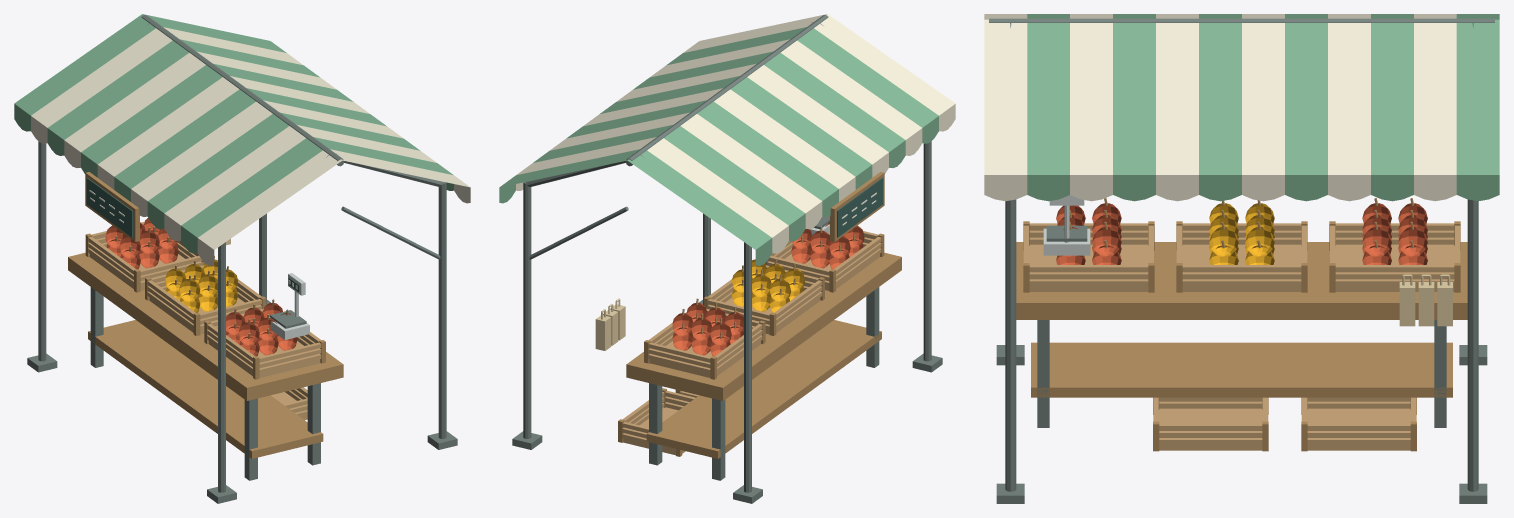
File: market-fruit.glb
The picture shows the model from 3 angles, left to right: view 1: azimuth 30°, elevation 25°; view 2: azimuth 150°, elevation 25°; view 3: azimuth 270°, elevation 25°; orthographic projection. The views are drawn at different scales.
Parts seen in each view (by area): view 1: fruit market stall; view 2: fruit market stall; view 3: fruit market stall.
Boxes of the visible parts, bbox=[...] form: fruit market stall: bbox=[14, 14, 470, 503]; fruit market stall: bbox=[499, 14, 955, 503]; fruit market stall: bbox=[984, 14, 1499, 503].
Size of the model in its own units: 2.49 by 2.89 by 3.3.
